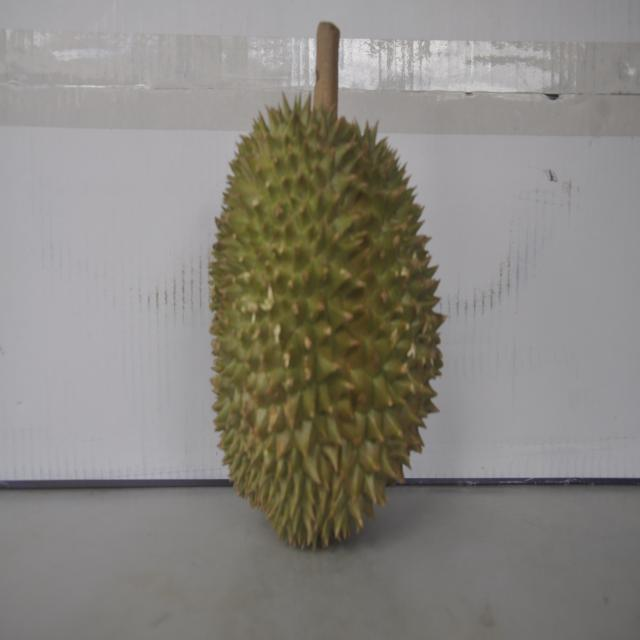mature: (204, 86, 442, 550)
